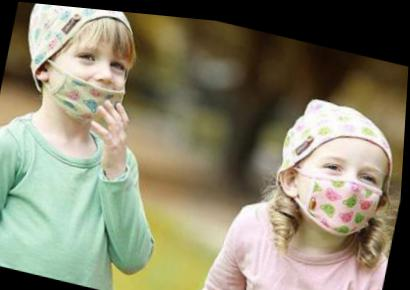OK: (301, 138, 395, 235)
WRONG: (45, 31, 139, 128)
